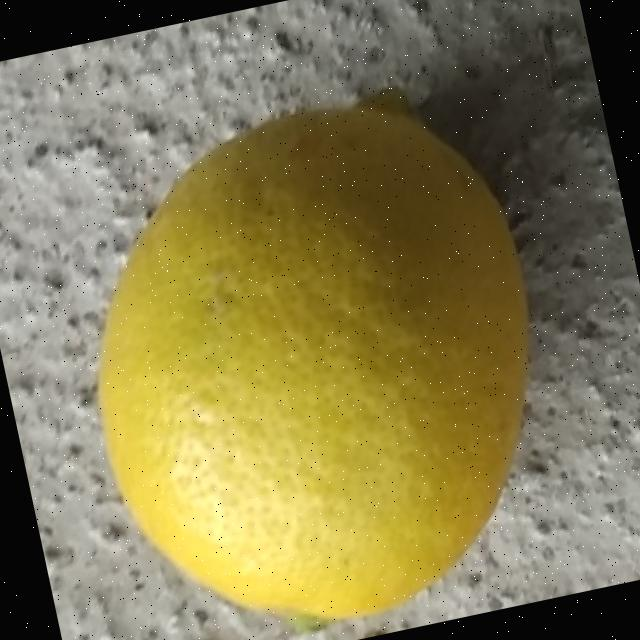Ripe: (36, 62, 591, 640)
